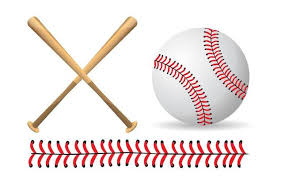baseball bat: (26, 15, 138, 130), (28, 16, 136, 132)
